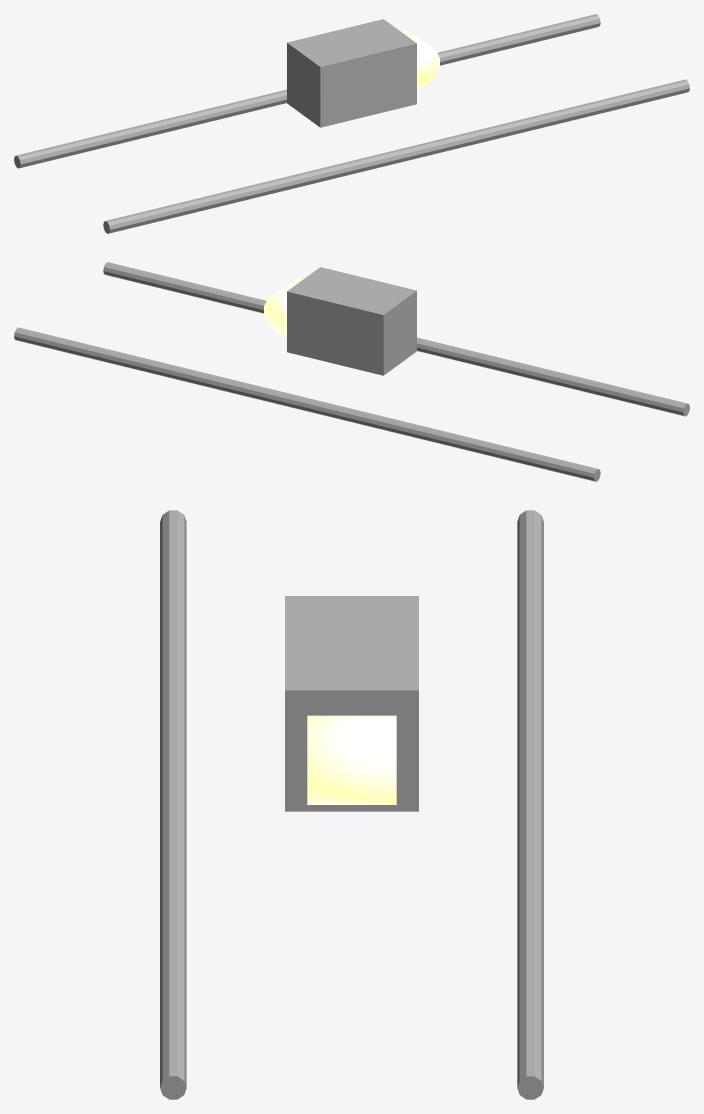
The model's file is dolly-rig.glb.
The picture shows the model from 3 angles, top to bottom: view 1: azimuth 30°, elevation 25°; view 2: azimuth 150°, elevation 25°; view 3: azimuth 270°, elevation 25°; orthographic projection. The views are drawn at different scales.
Visible parts, largest first — view 1: CameraHousing, Rail, Rail.001, CameraLens; view 2: CameraHousing, Rail.001, Rail, CameraLens; view 3: CameraHousing, Rail, Rail.001, CameraLens.
Boxes of the visible parts, left/top/right/bottom form: CameraHousing: left=287, top=19, right=416, bottom=127; Rail: left=103, top=79, right=689, bottom=233; Rail.001: left=14, top=14, right=600, bottom=168; CameraLens: left=400, top=30, right=439, bottom=87; CameraHousing: left=287, top=267, right=416, bottom=375; Rail.001: left=14, top=327, right=600, bottom=481; Rail: left=103, top=262, right=689, bottom=416; CameraLens: left=264, top=278, right=303, bottom=335; CameraHousing: left=285, top=596, right=418, bottom=811; Rail: left=160, top=510, right=186, bottom=1099; Rail.001: left=517, top=510, right=543, bottom=1099; CameraLens: left=307, top=715, right=396, bottom=804.
Bounding box in the file's own units: 3 × 0.4285 × 0.86.
